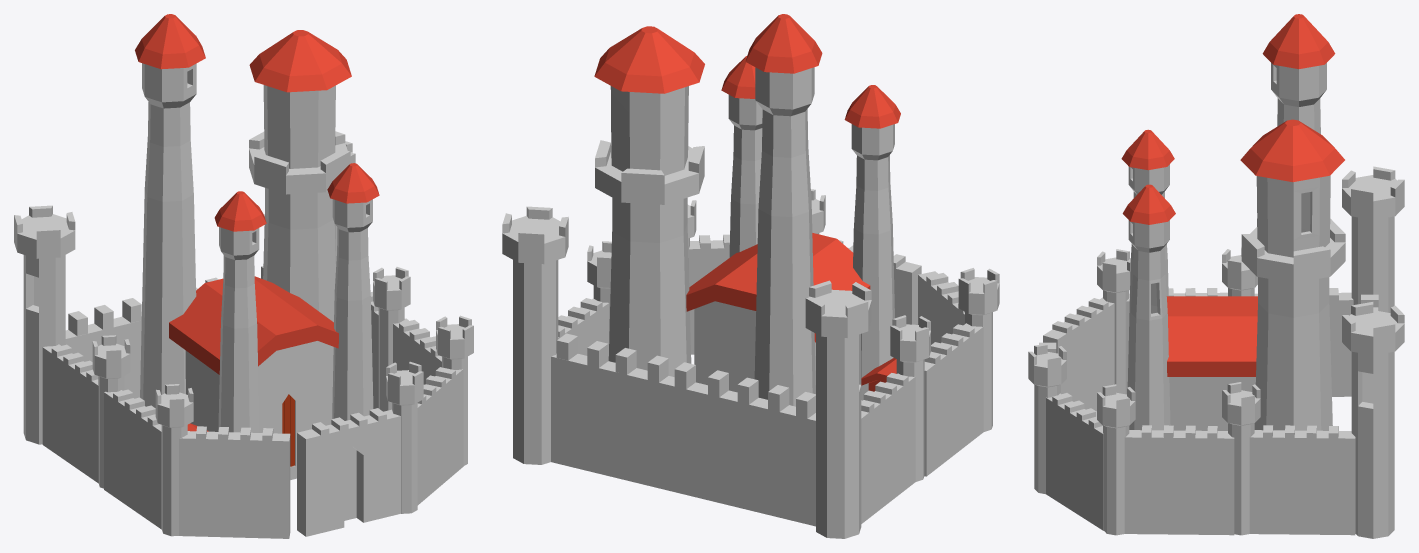
Rendered from castle_100.glb.
3 renders of one model, left to right at view 1: azimuth 30°, elevation 25°; view 2: azimuth 150°, elevation 25°; view 3: azimuth 270°, elevation 25°, orthographic. The views are drawn at different scales.
Visible parts, largest first — view 1: Castle; view 2: Castle; view 3: Castle.
Boxes of the visible parts, bbox=[...] form: Castle: bbox=[14, 14, 473, 538]; Castle: bbox=[502, 14, 999, 538]; Castle: bbox=[1028, 14, 1404, 538].
Bounding box in the file's own units: 7 × 8.48 × 6.87.
